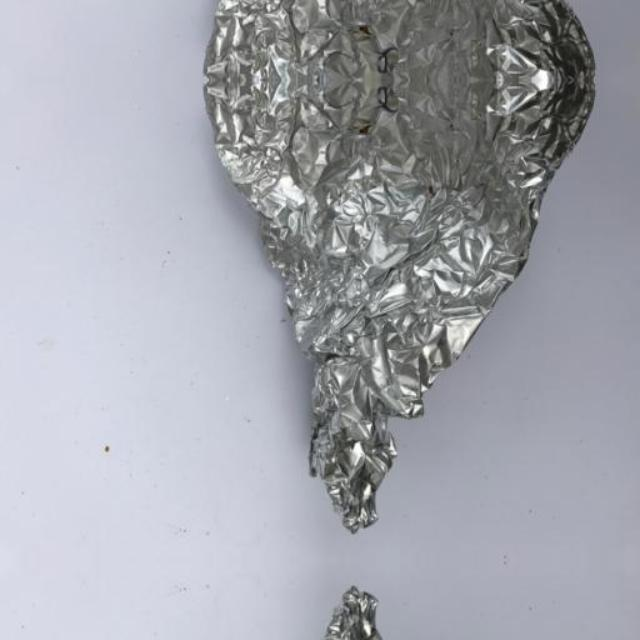Metal: (176, 80, 630, 546), (176, 0, 629, 79), (176, 574, 629, 640)
